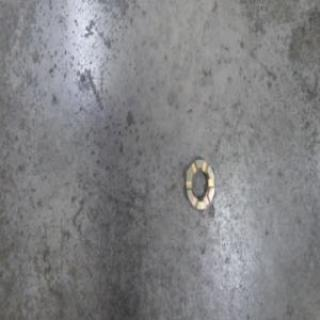Nuttrack_idkeyframe: (184, 154, 214, 213)
